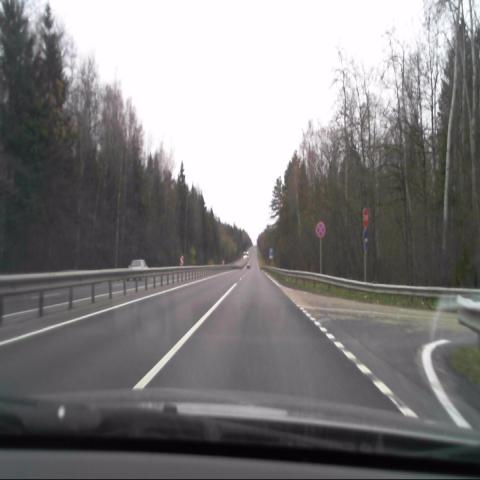2_5: (361, 206, 369, 228)
3_27: (315, 222, 325, 240)
4_1_2: (362, 227, 370, 254)
